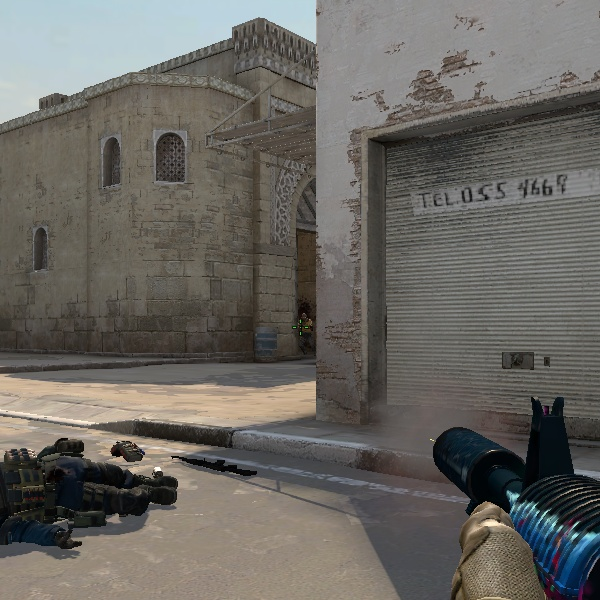t_body: (291, 309, 318, 360)
t_head: (298, 311, 311, 324)
